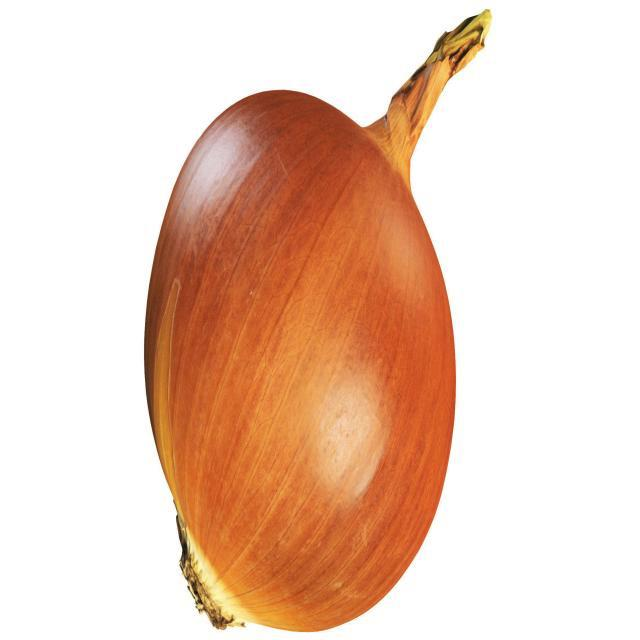onion: (140, 7, 509, 634)
